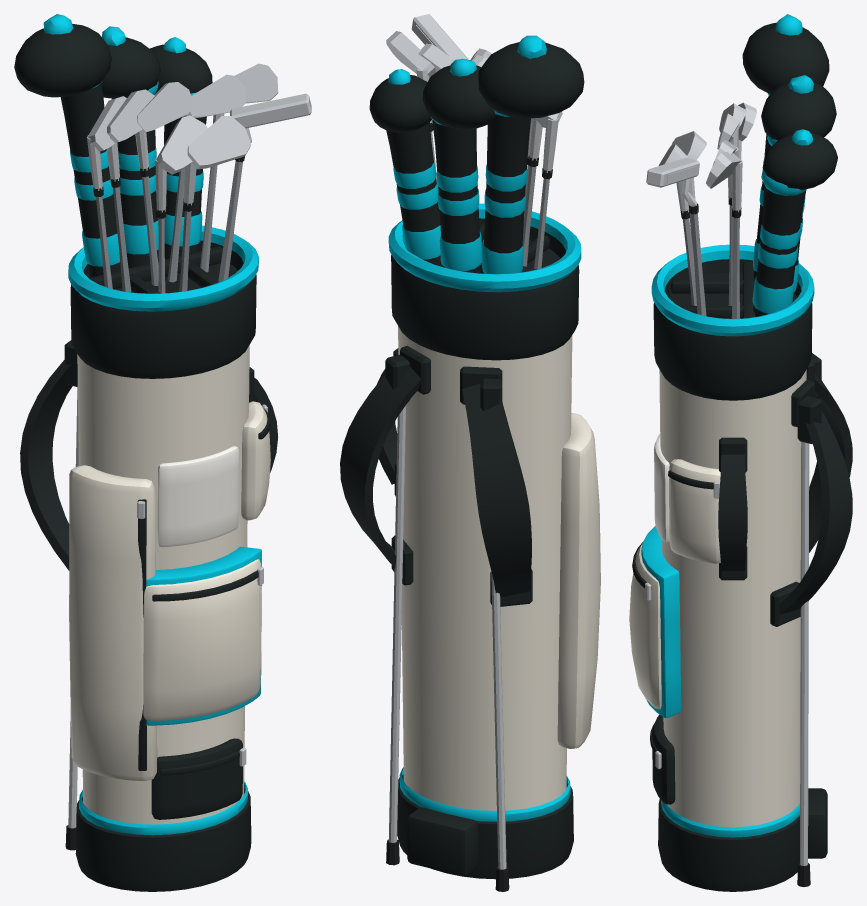
File: GolfBag_Stand.fbx
The picture shows the model from 3 angles, left to right: view 1: azimuth 30°, elevation 25°; view 2: azimuth 150°, elevation 25°; view 3: azimuth 270°, elevation 25°; orthographic projection. The views are drawn at different scales.
Visible parts, largest first — view 1: GolfBag_Stand; view 2: GolfBag_Stand; view 3: GolfBag_Stand.
Boxes of the visible parts, left/top/right/bottom form: GolfBag_Stand: left=14, top=14, right=311, bottom=891; GolfBag_Stand: left=340, top=14, right=600, bottom=891; GolfBag_Stand: left=629, top=14, right=852, bottom=891.
Size of the model in its own units: 0.342 by 1.21 by 0.3024.
